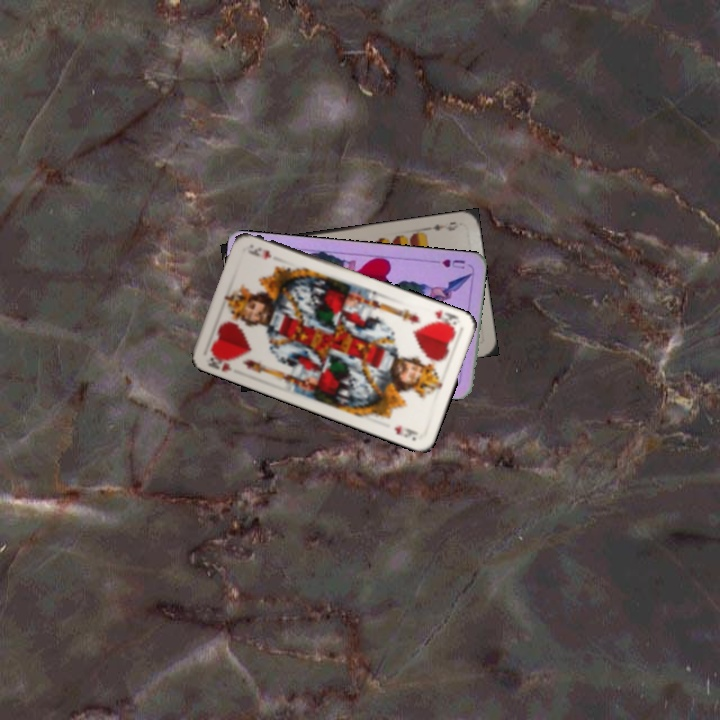E9: (423, 218, 461, 233)
HK: (204, 348, 238, 374), (430, 305, 461, 332)
HU: (430, 255, 467, 271)
